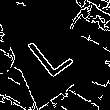L_NW: (16, 19, 74, 78)
